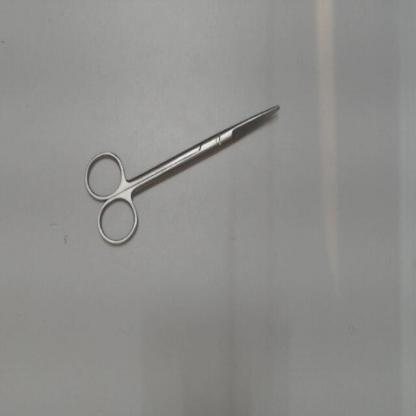Curved Mayo Scissors: (76, 96, 283, 260)
